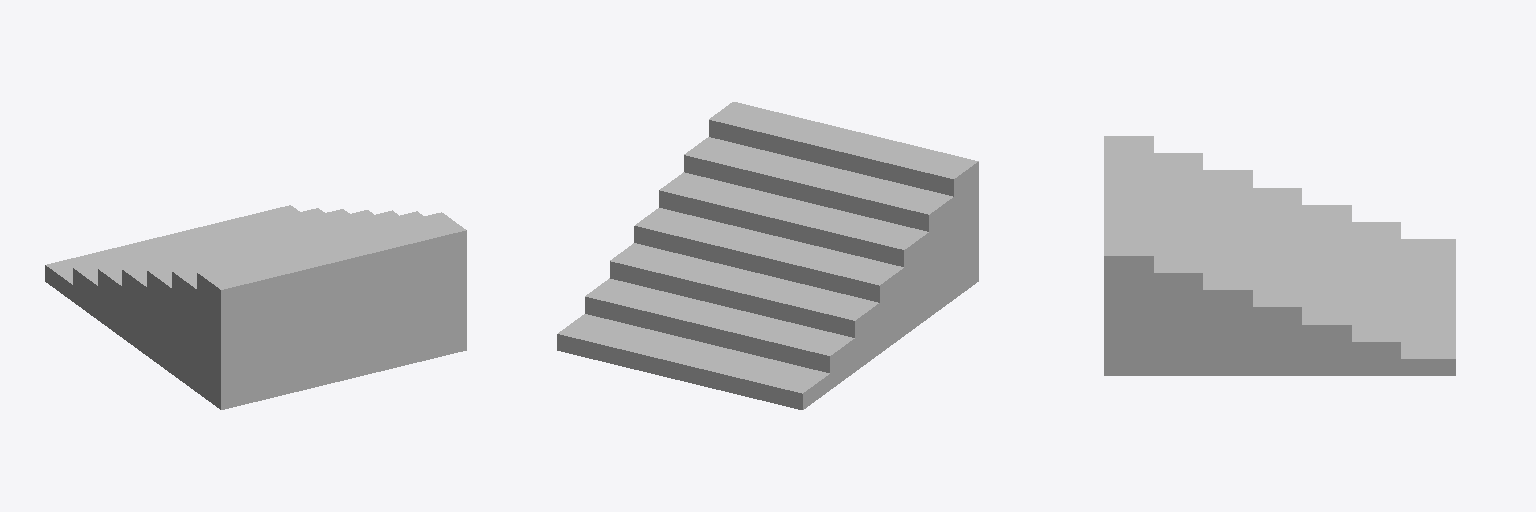
Rendered from stairs.obj.
3 views of the same model, side by side, from view 1: azimuth 30°, elevation 25°; view 2: azimuth 150°, elevation 25°; view 3: azimuth 270°, elevation 25° (orthographic).
Bounding box in the file's own units: 8 × 3.75 × 9.93.